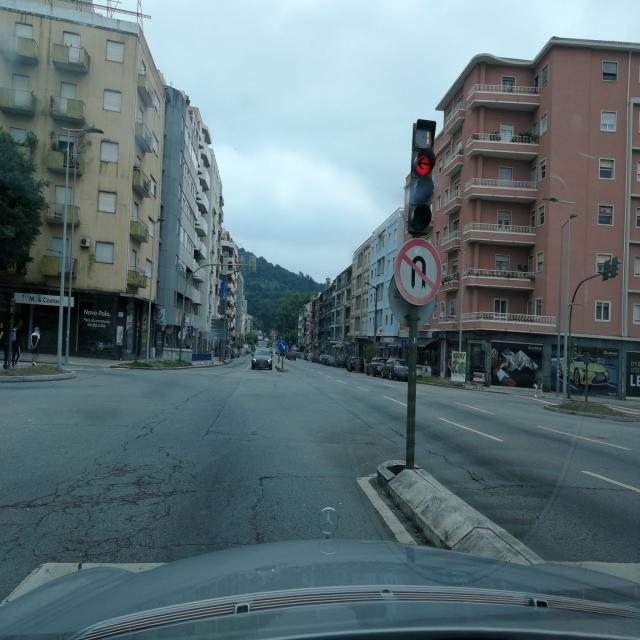car: (380, 357, 409, 381), (252, 348, 273, 370), (365, 356, 387, 376), (347, 357, 366, 372), (334, 353, 348, 367), (325, 354, 337, 366), (286, 350, 297, 360), (310, 352, 320, 362)
